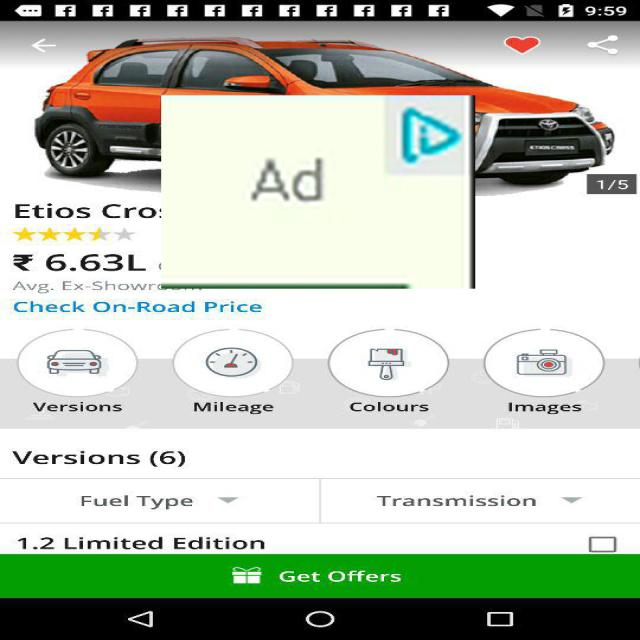sneaking: (161, 95, 475, 289)
